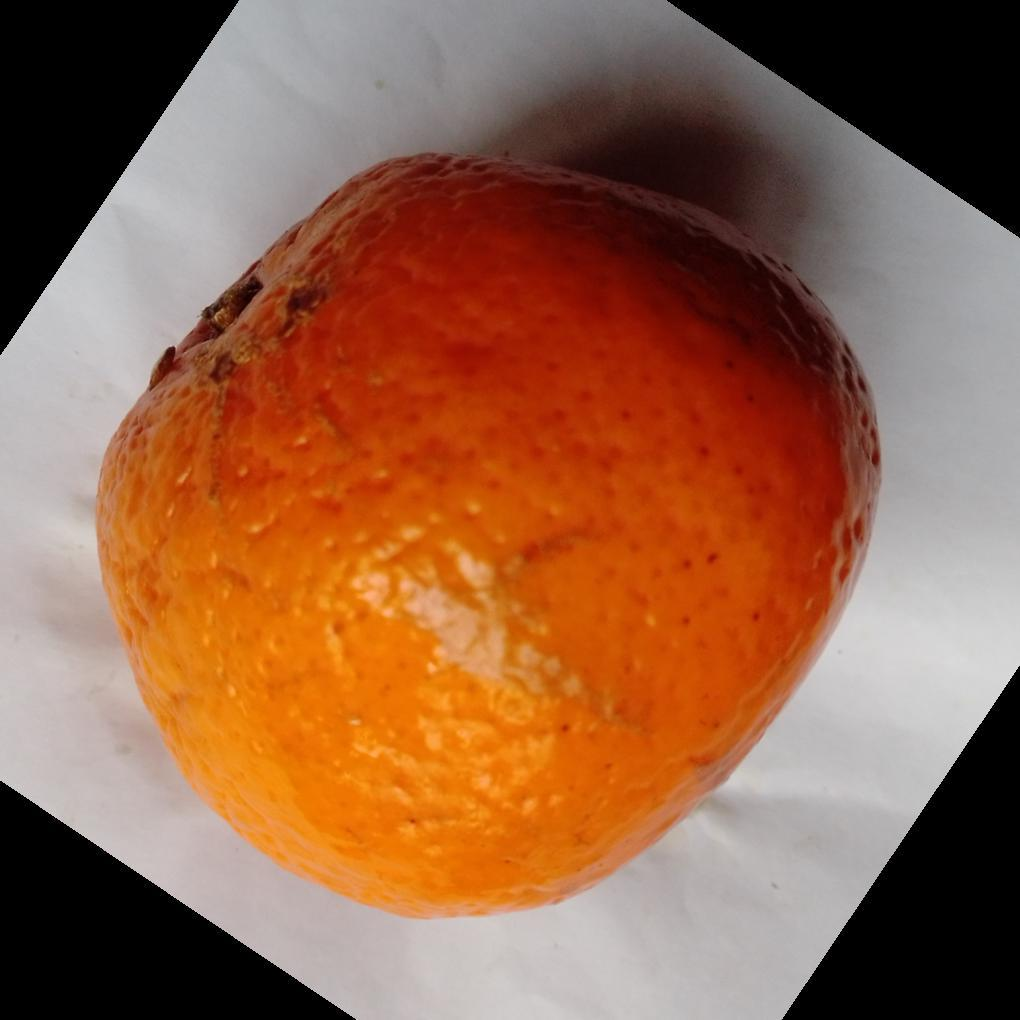FreshOrange: (92, 154, 884, 926)
